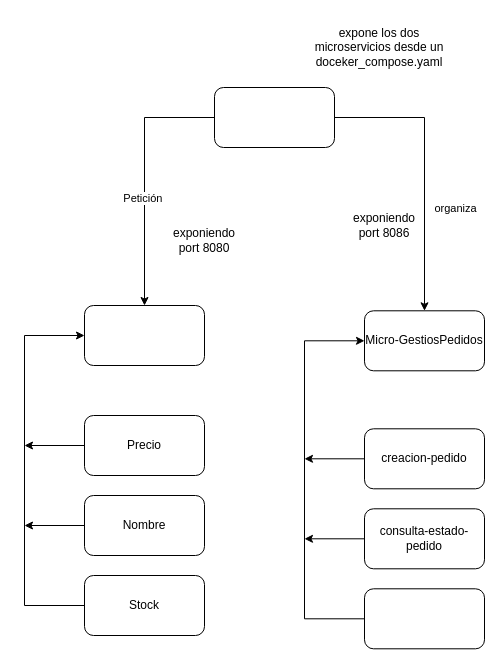
Some shapes in this 502 by 666 pixel diagram are drawn without their labels. The centre of each missing label's shape, as x and y in pixels:
"calculo-subtotal" goes at pixel 424 618.
"Mercado-quevedo" goes at pixel 274 117.
"Micro-productos" goes at pixel 144 335.
